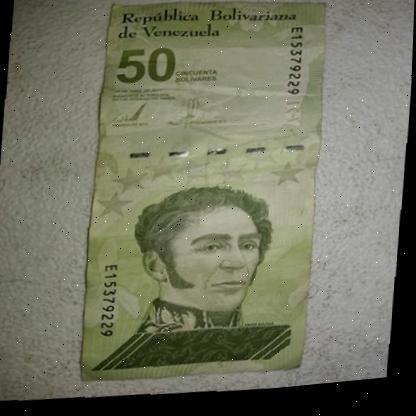fifty-front-vef: (79, 0, 333, 392)
